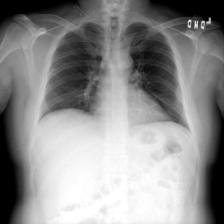normal: (32, 15, 192, 141)
